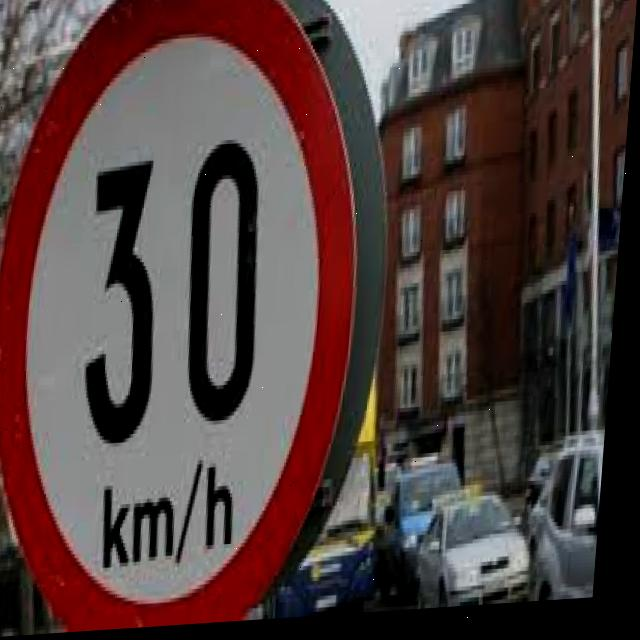Speed limit 30: (1, 1, 411, 632)
